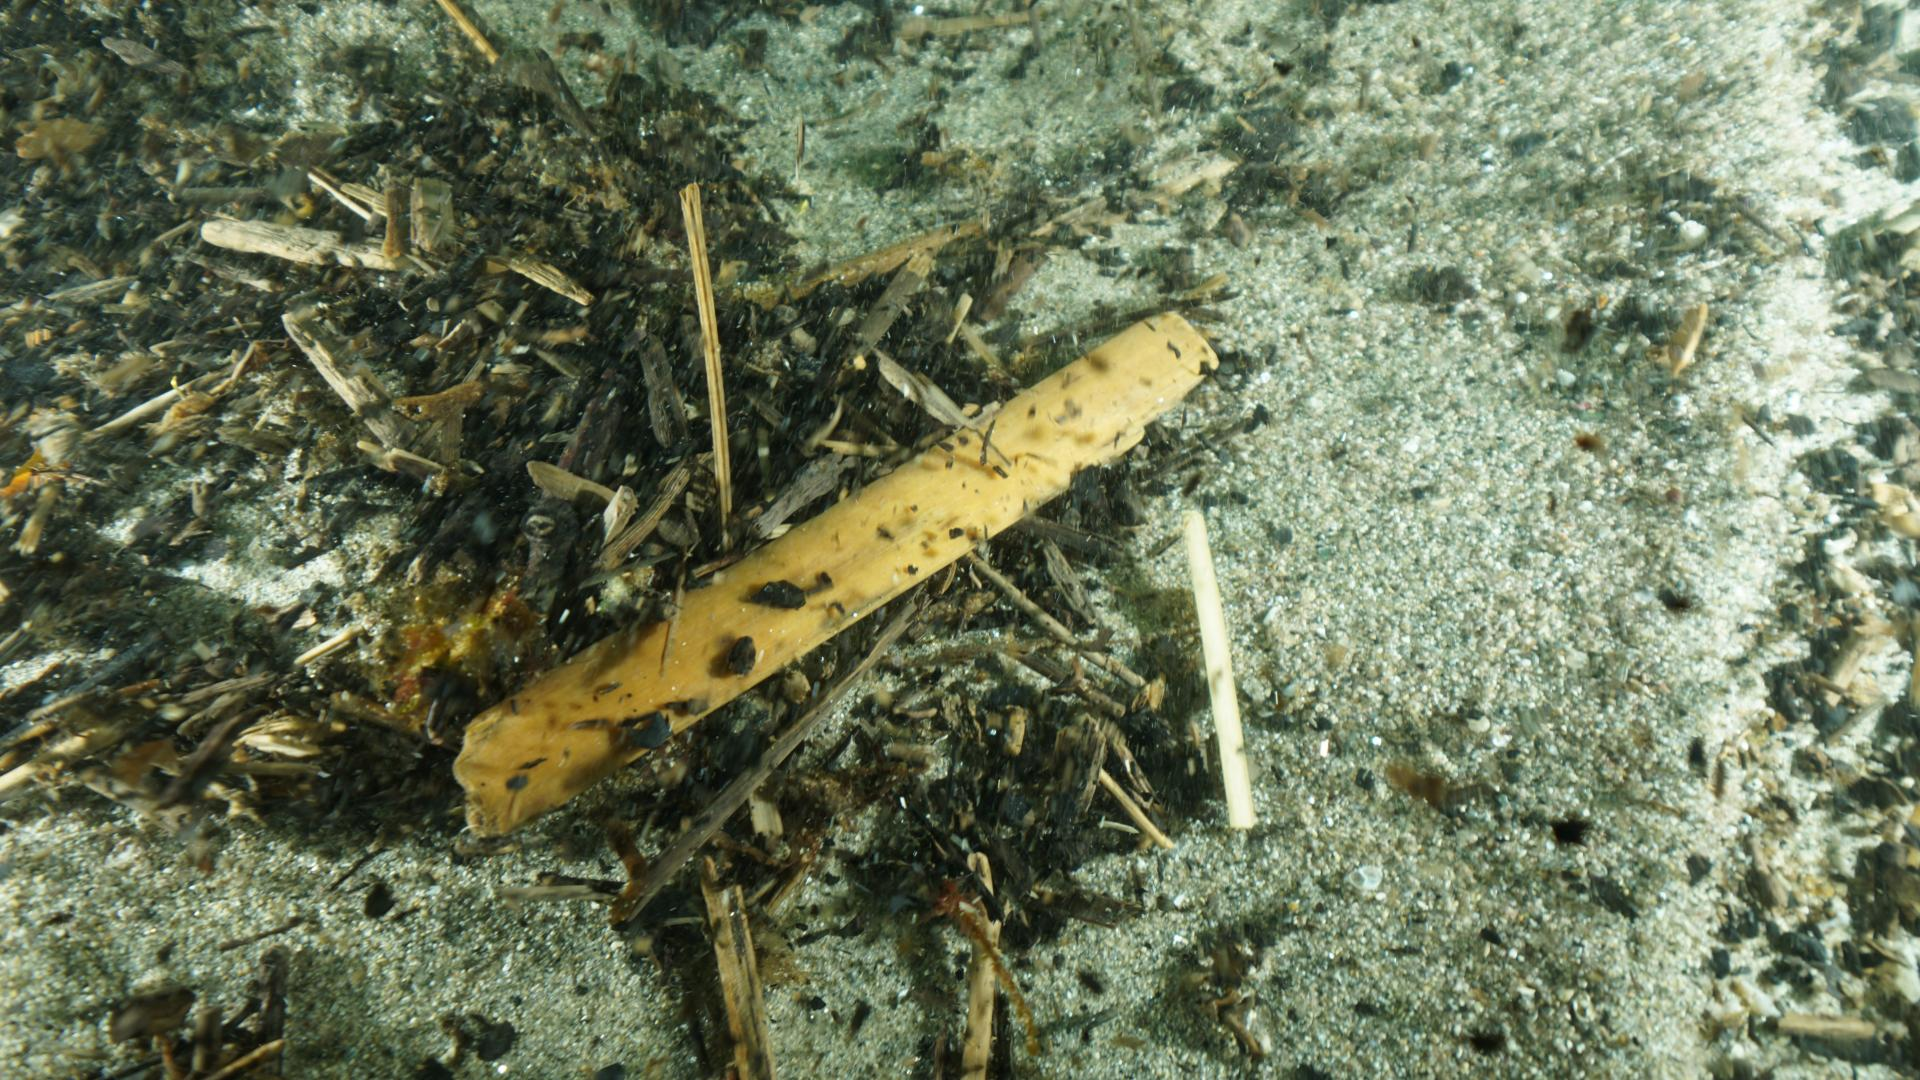wood: (448, 309, 1218, 835)
